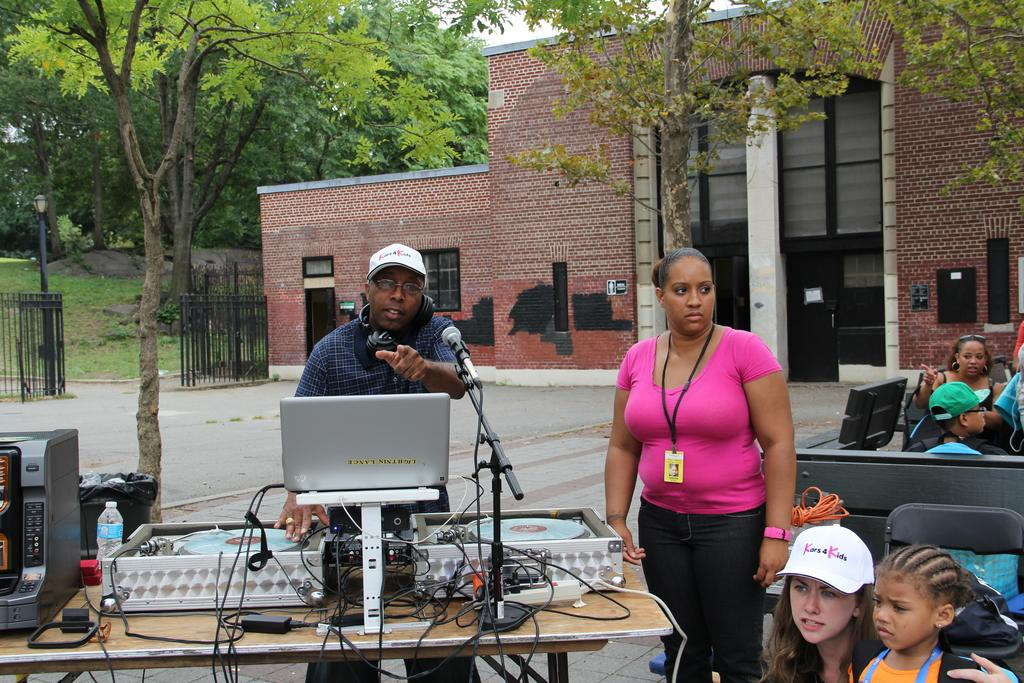Hat: (774, 522, 876, 594), (366, 243, 428, 288)
